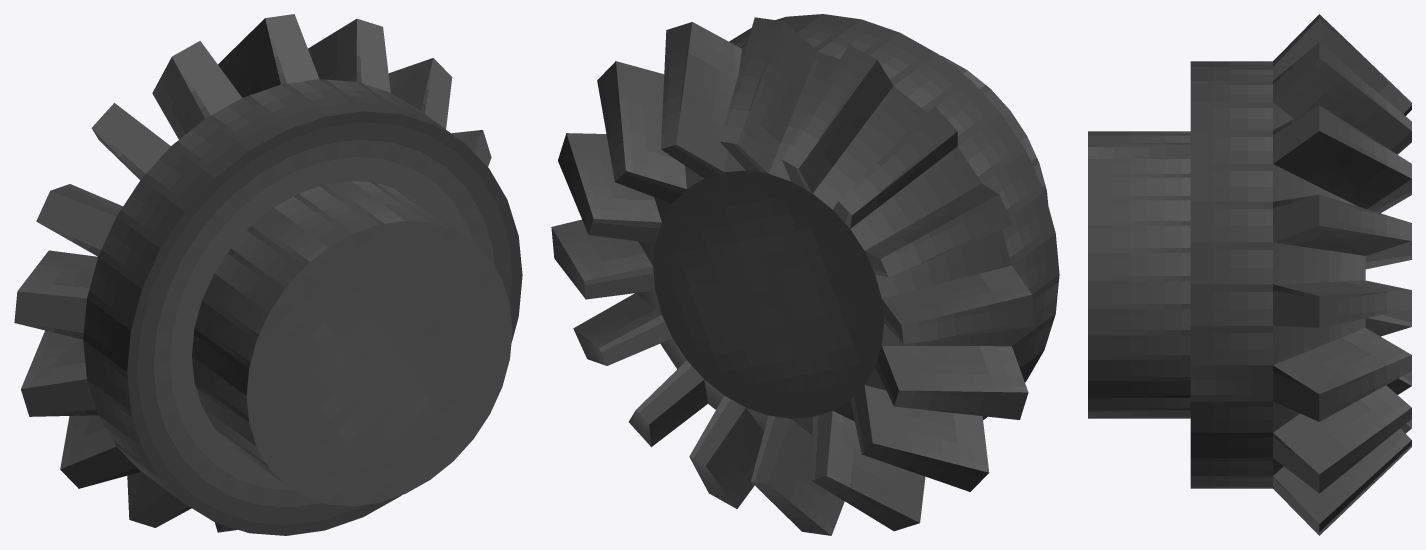
The model's file is bevel_gear.obj.
The picture shows the model from 3 angles, left to right: view 1: azimuth 30°, elevation 25°; view 2: azimuth 150°, elevation 25°; view 3: azimuth 270°, elevation 25°; orthographic projection. The views are drawn at different scales.
Visible parts, largest first — view 1: Цилиндр.001; view 2: Цилиндр.001; view 3: Цилиндр.001.
Boxes of the visible parts, x1,y1,x2,y2 form: Цилиндр.001: [14, 14, 522, 535]; Цилиндр.001: [551, 14, 1059, 535]; Цилиндр.001: [1088, 14, 1411, 535].
Bounding box in the file's own units: 0.7302 × 0.7302 × 0.4518.
